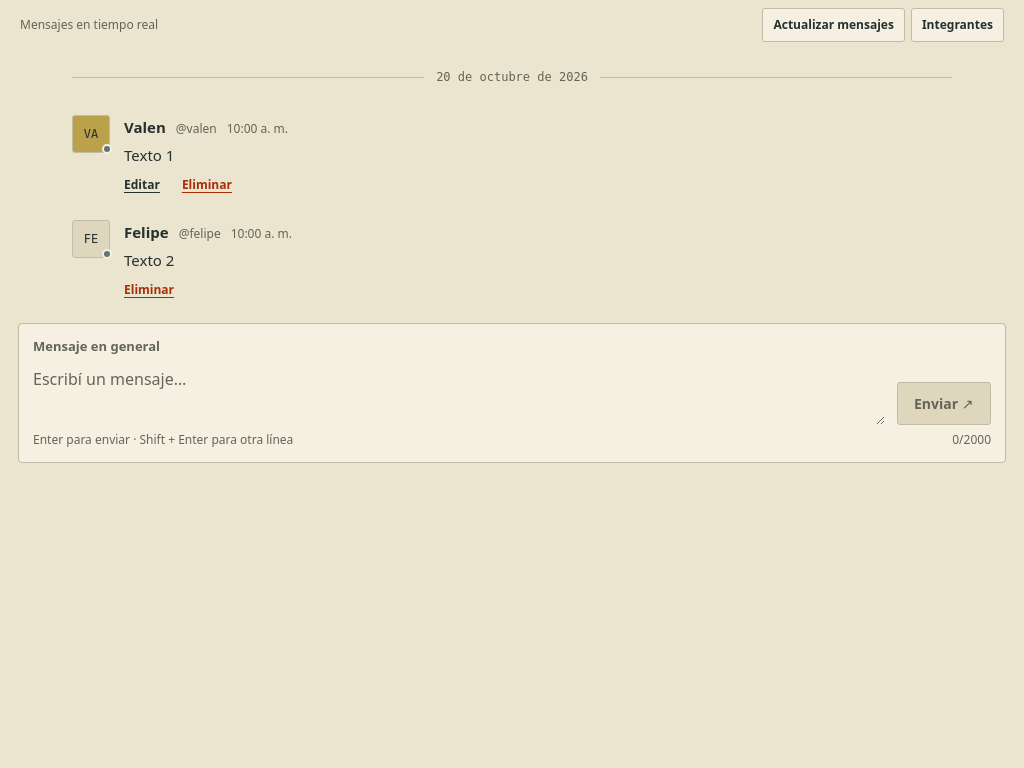
Test: reconectar no vuelve a abrir una confirmación invalidada por la desconexión
The image size is (1024, 768).
Click the button with aria-label "Eliminar mensaje" at {"x": 149, "y": 290}, box [116,275,182,305]
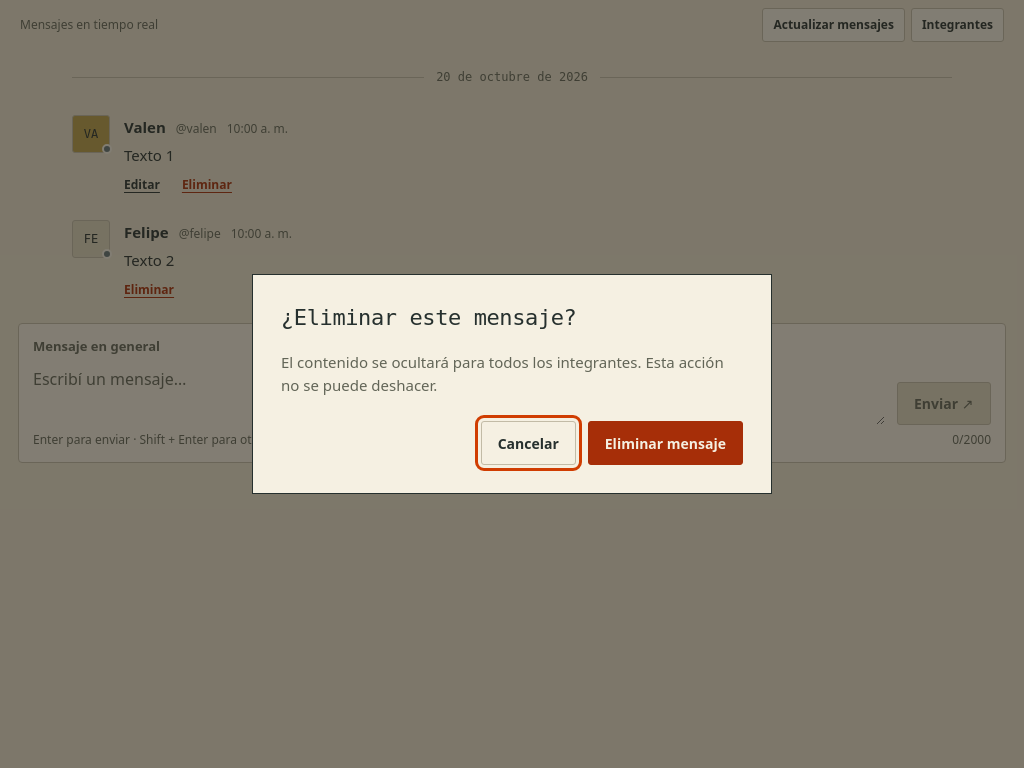
Check: the dialog is shown, box [252,274,772,494]
